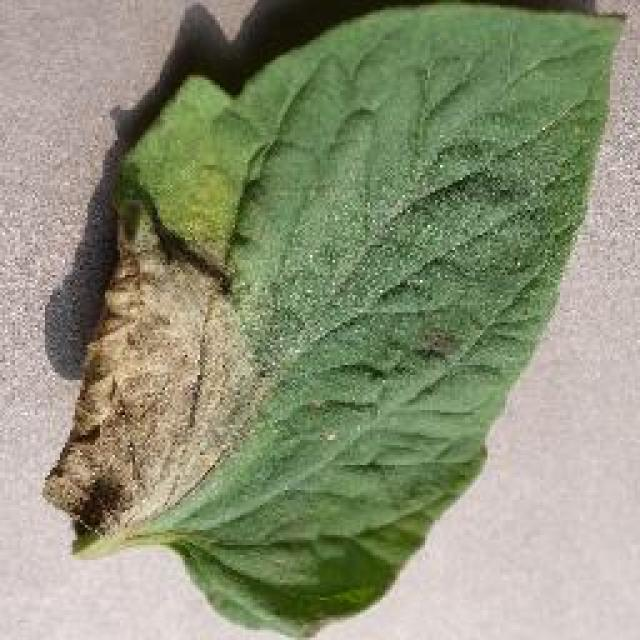Tomato Late Blight: (49, 145, 368, 552)
